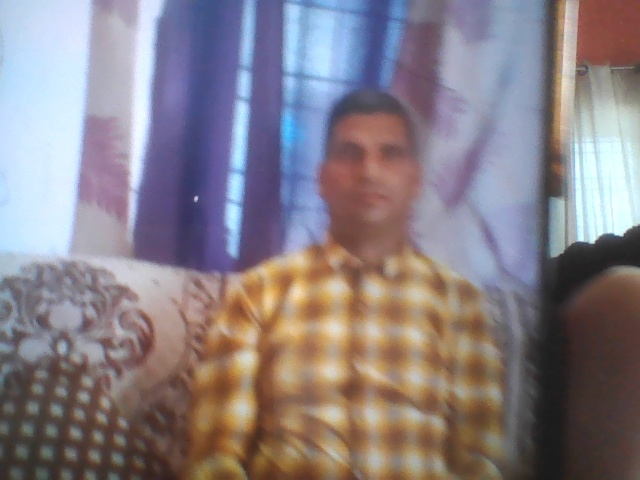fake: (311, 62, 437, 240)
